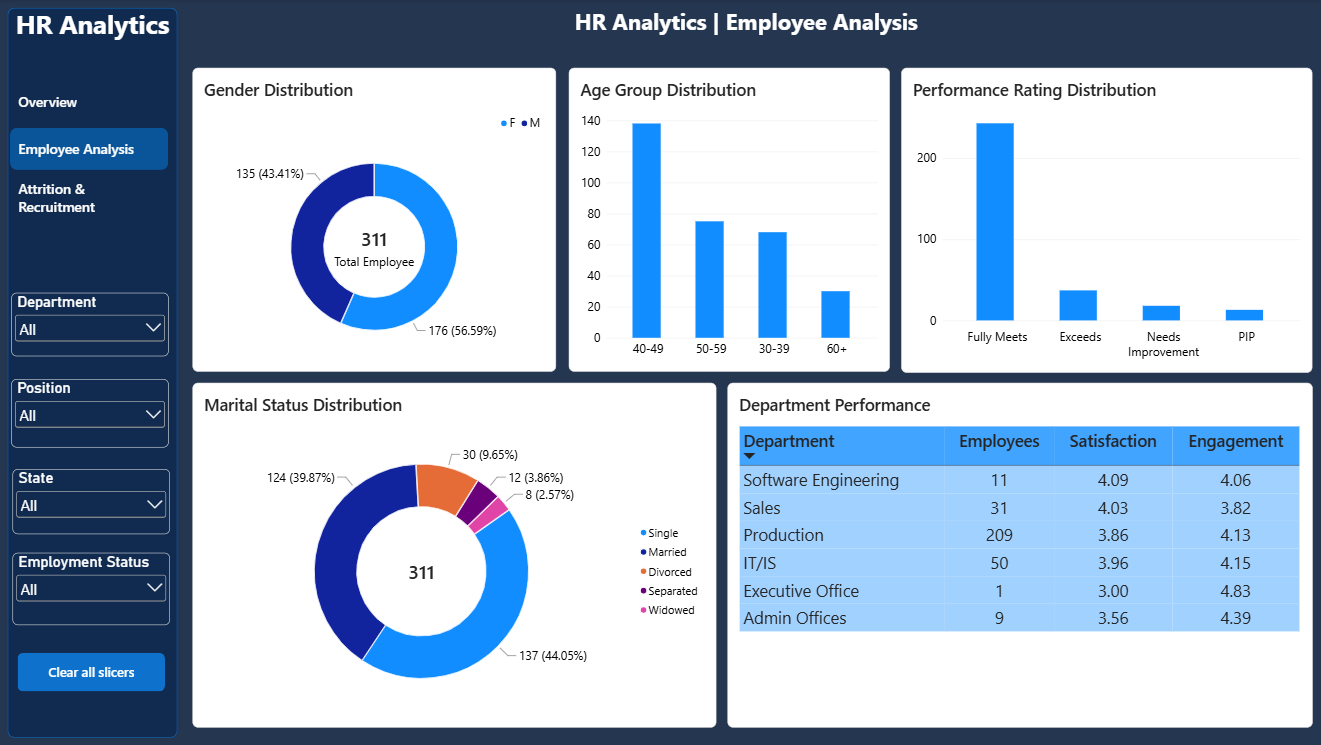

What the dashboard file says about the page in this screenshot:
{"tool":"powerbi","page":{"name":"Employee Analysis","canvas":[1920,1080],"ordinal":1},"visuals":[{"type":"donutChart","title":"Gender Distribution","fields":{"Category":["HRData.Sex"],"Y":["CountNonNull(HRData.Sex)"]},"box":[278.7,99.5,526.6,439.7],"z":0},{"type":"clusteredColumnChart","title":"Age Group Distribution","fields":{"Category":["HRData.Age Group"],"Y":["HRData.Total Employees"]},"box":[823.4,99.5,465.1,439.7],"z":1000},{"type":"donutChart","title":"Marital Status Distribution","fields":{"Category":["HRData.MaritalDesc"],"Y":["HRData.Total Employees"]},"box":[278.7,555.6,758.2,499.5],"z":2000},{"type":"clusteredColumnChart","title":"Performance Rating Distribution","fields":{"Category":["HRData.PerformanceScore"],"Y":["HRData.Total Employees"]},"box":[1304.8,99.5,595.4,441.6],"z":3000},{"type":"tableEx","title":"Department Performance","fields":{"Values":["HRData.Department","HRData.Total Employees","HRData.Average Satisfaction","HRData.Average Engagement"]},"box":[1053.2,555.6,846.9,499.5],"z":4000},{"type":"shape","box":[10.9,12.7,246,1056.8],"z":5000},{"type":"pageNavigator","box":[14.5,117.6,229.8,200.9],"z":6000},{"type":"slicer","fields":{"Values":["HRData.Department"]},"box":[16.3,425.3,228,92.3],"z":7000},{"type":"slicer","fields":{"Values":["HRData.Position"]},"box":[16.3,550.1,228,99.5],"z":8000},{"type":"slicer","fields":{"Values":["HRData.State"]},"box":[18.1,680.4,228,94.1],"z":9000},{"type":"slicer","fields":{"Values":["HRData.EmploymentStatus"]},"box":[18.1,801.7,228,105],"z":10000},{"type":"textbox","box":[20,10,228,59.7],"z":11000},{"type":"textbox","box":[266,10,1628.7,65.1],"z":12000},{"type":"actionButton","box":[25.3,946.5,213.5,56.1],"z":13000}]}

Visuals, with their boxes in screenshot pixels (x1, y1, x2, y2), scaled from the page's 1920x1080 canvas onto the 1321x745 screenshot:
"Gender Distribution" donutChart: (192,69,554,372)
"Age Group Distribution" clusteredColumnChart: (567,69,887,372)
"Marital Status Distribution" donutChart: (192,383,713,728)
"Performance Rating Distribution" clusteredColumnChart: (898,69,1307,373)
"Department Performance" tableEx: (725,383,1307,728)
shape: (7,9,177,738)
pageNavigator: (10,81,168,220)
slicer - HRData.Department: (11,293,168,357)
slicer - HRData.Position: (11,379,168,448)
slicer - HRData.State: (12,469,169,534)
slicer - HRData.EmploymentStatus: (12,553,169,625)
textbox: (14,7,171,48)
textbox: (183,7,1304,52)
actionButton: (17,653,164,692)
